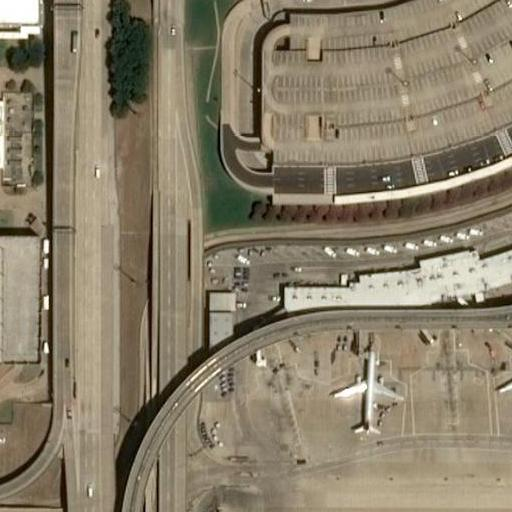Aircraft: (324, 348, 403, 433), (489, 342, 512, 425)
